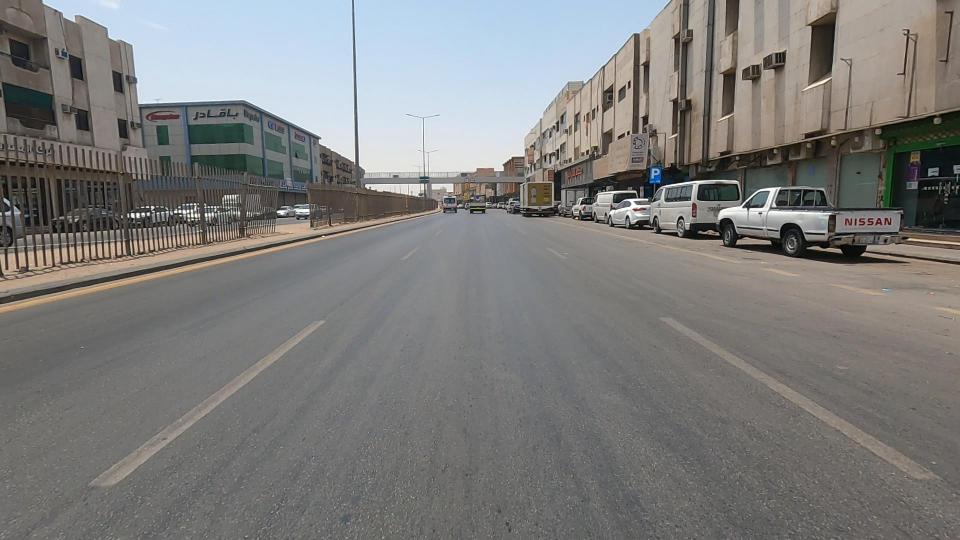BAD_BILLBOARD: (562, 112, 654, 203)
